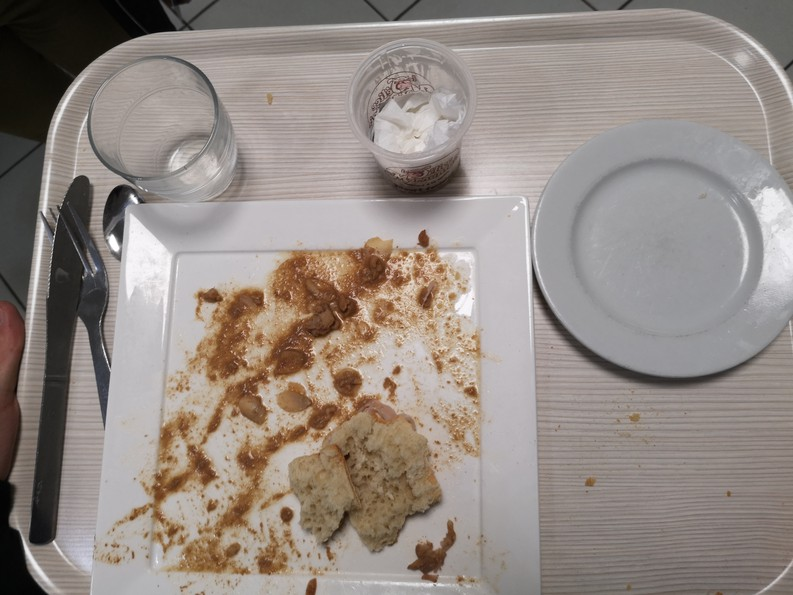orga: (279, 400, 447, 560), (280, 277, 361, 378)
trash: (330, 30, 484, 201)
